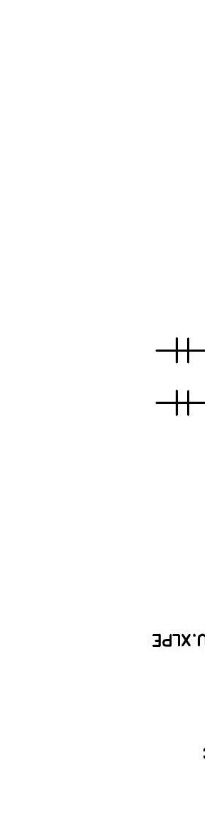115_buffer: (175, 337, 189, 364), (176, 389, 189, 416)
